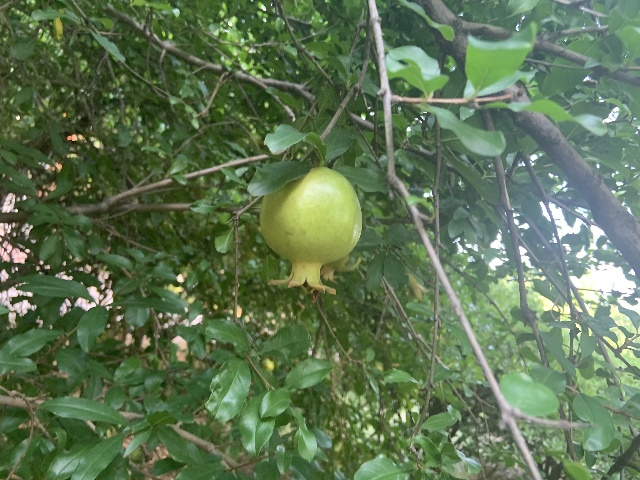mid-growth: (259, 166, 363, 303)
